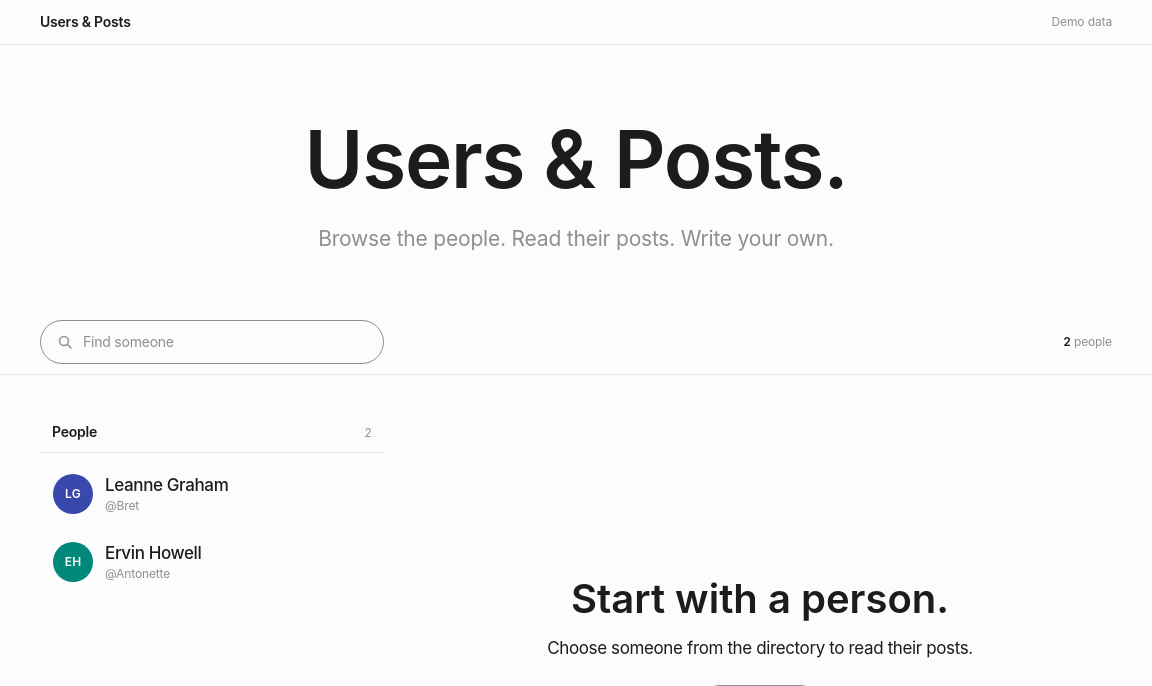
Test: App integration › filters the directory by name
Expected: the button "LG Leanne Graham @Bret" is shown, top-left (40, 461), bottom-right (384, 527)
Type "ervin" into the search field labelled "Find someone".
click(212, 342); type("ervin")  # box top-left (41, 321), bottom-right (383, 363)
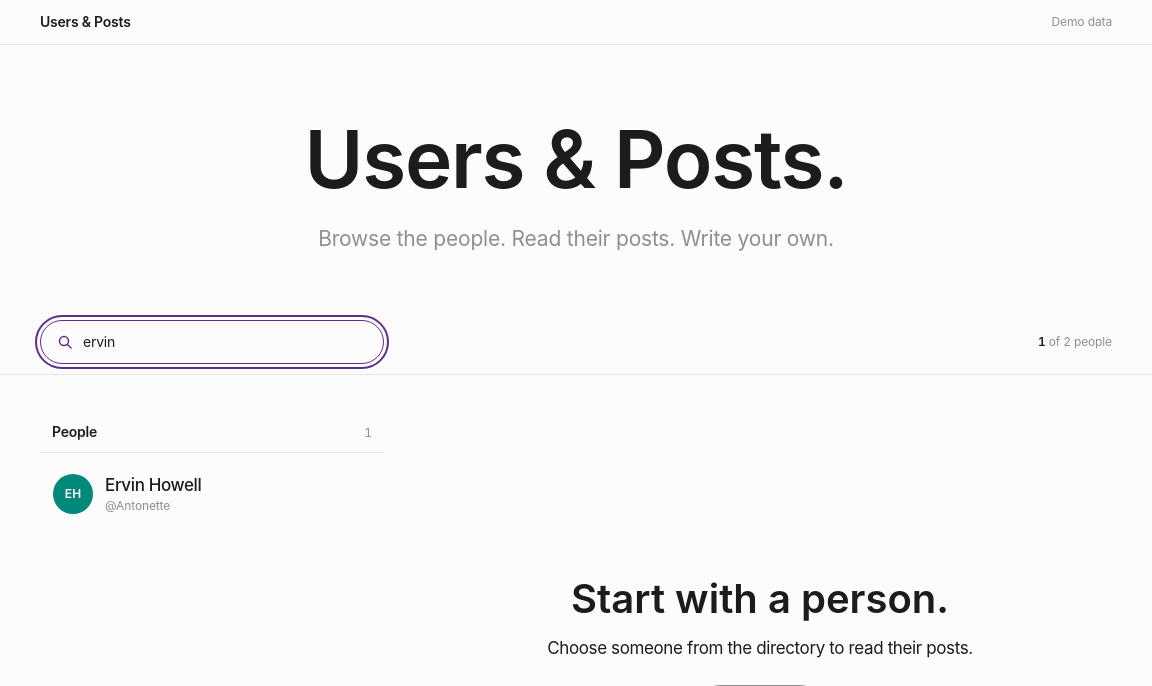
Expected: the button "EH Ervin Howell @Antonette" is shown, top-left (40, 461), bottom-right (384, 527)
Result: the button "Leanne Graham" is gone
